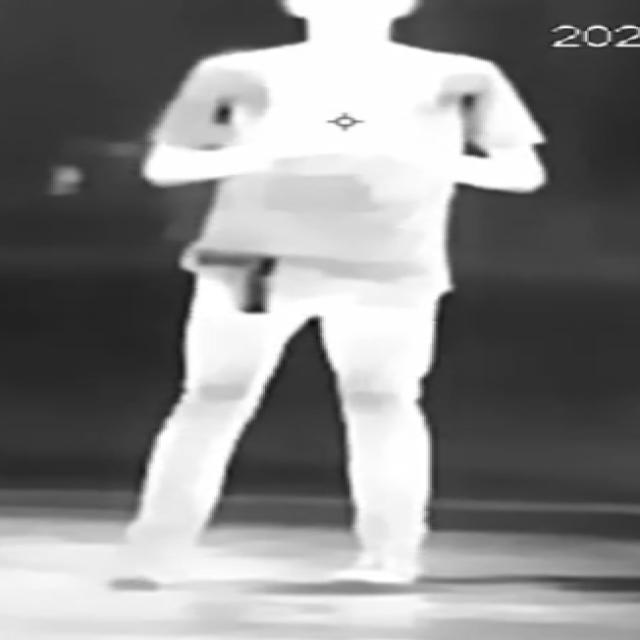Weapon: (171, 238, 322, 329)
